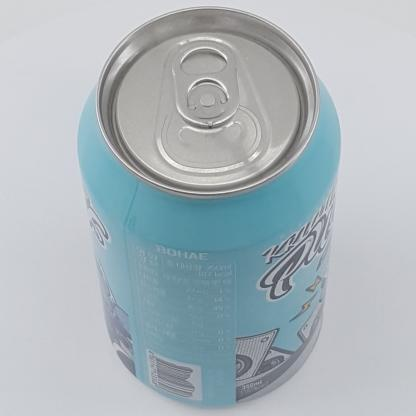-----------------350ML: (77, 6, 341, 407)
